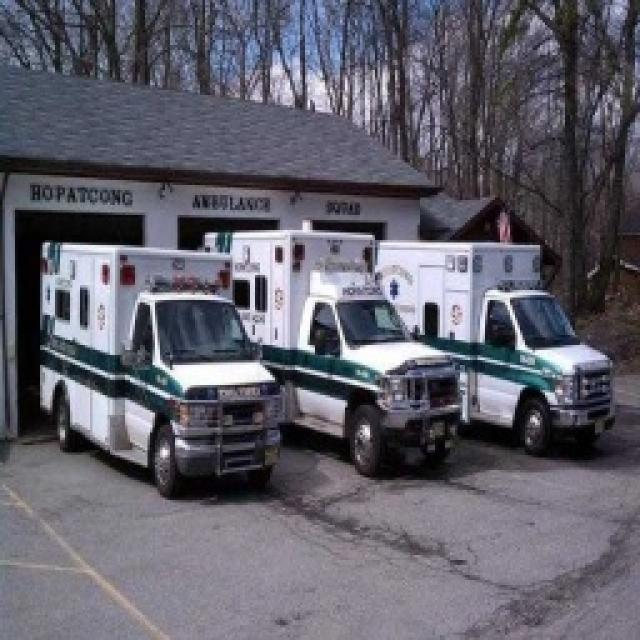emergency-vehicle: (192, 223, 460, 489), (36, 230, 278, 488), (366, 237, 614, 463)
